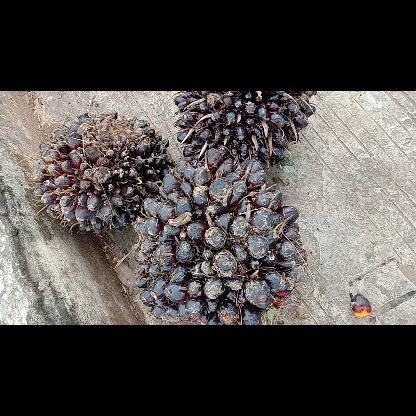TBS mentah: (132, 146, 310, 324), (29, 108, 175, 238), (170, 91, 318, 167)
